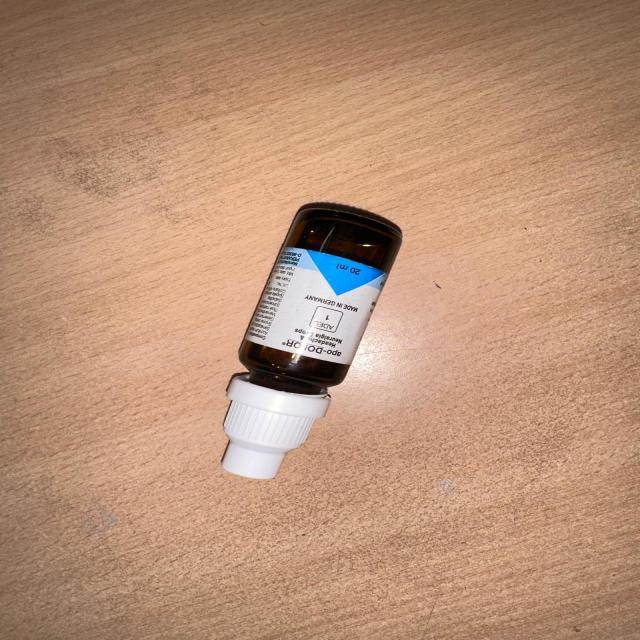medicine: (164, 185, 431, 498)
